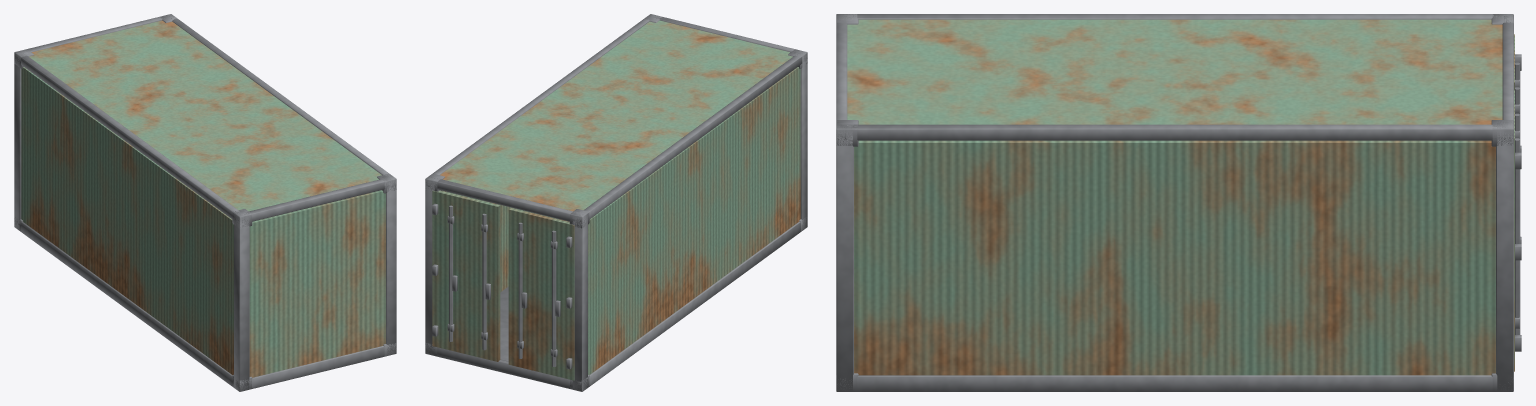
Rendered from Works_Container.fbx.
The picture shows the model from 3 angles, left to right: view 1: azimuth 30°, elevation 25°; view 2: azimuth 150°, elevation 25°; view 3: azimuth 270°, elevation 25°; orthographic projection. The views are drawn at different scales.
Parts seen in each view (by area): view 1: Body; view 2: Body; view 3: Body.
Part boxes in pixels (x1,y1,x2,y2): Body: (14, 14, 396, 391); Body: (425, 14, 807, 391); Body: (836, 14, 1521, 391).
Bounding box in the file's own units: 2.44 × 2.6 × 6.13.
Materials: 1 (1 with a texture image).
